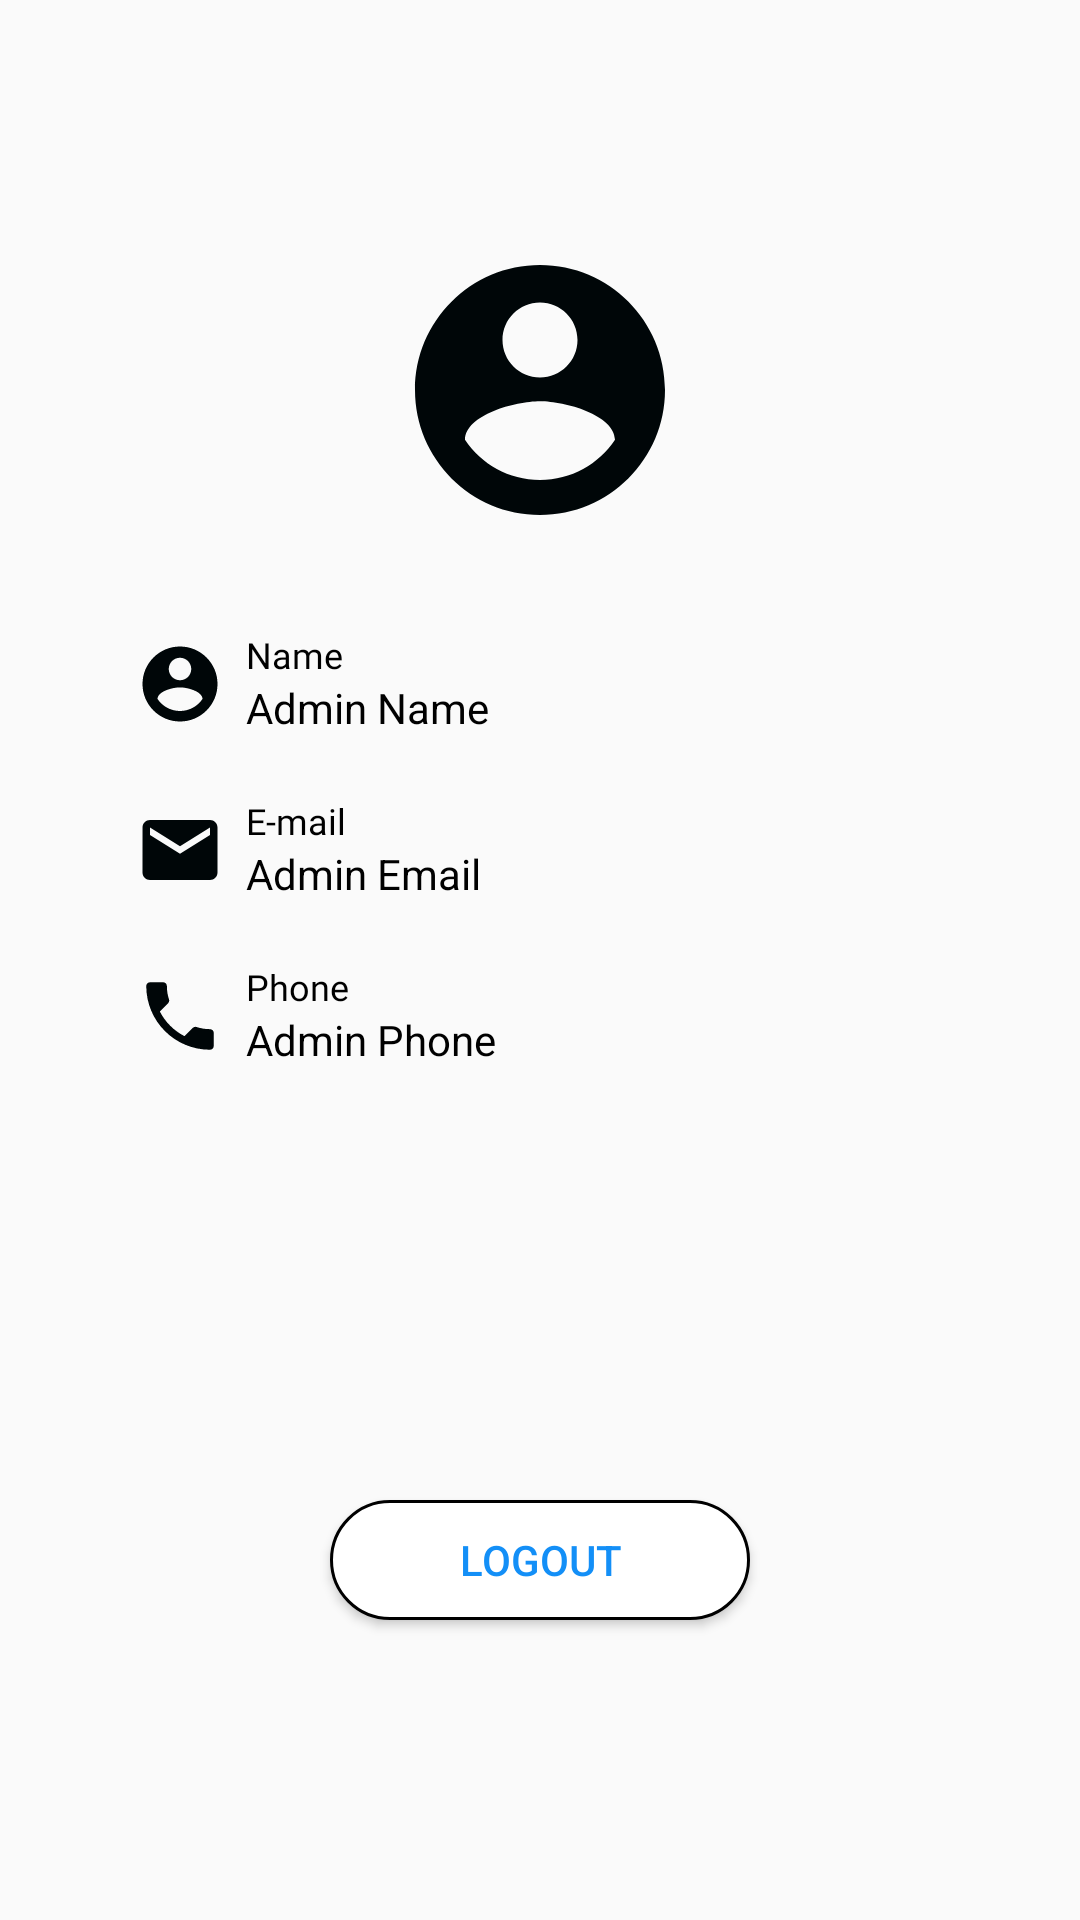

Icons on this 1080 × 1920 Android screen, each with the point to tap as (x,y):
account circle: (540,390), (180,684)
